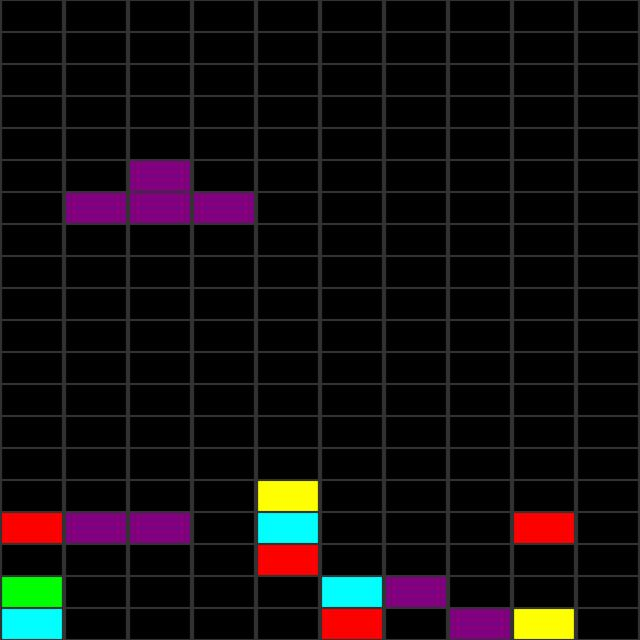Tetrimino_J: (69, 160, 255, 223), (69, 159, 249, 221)
